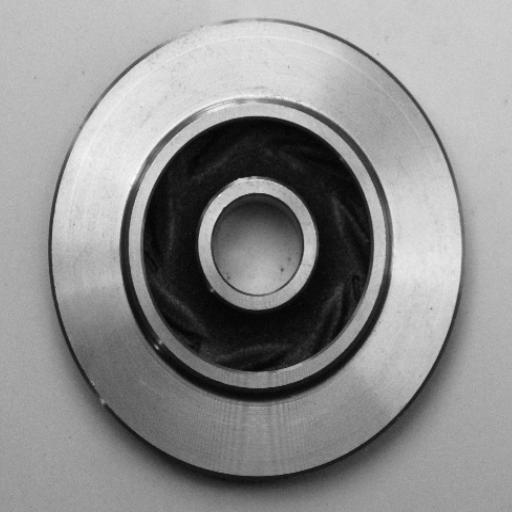scratch: (193, 88, 277, 117)
unpolished_casting: (45, 15, 464, 480)
